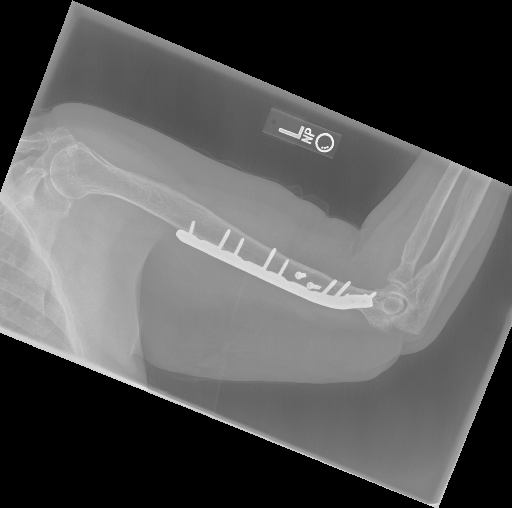implant: (176, 218, 377, 314)
